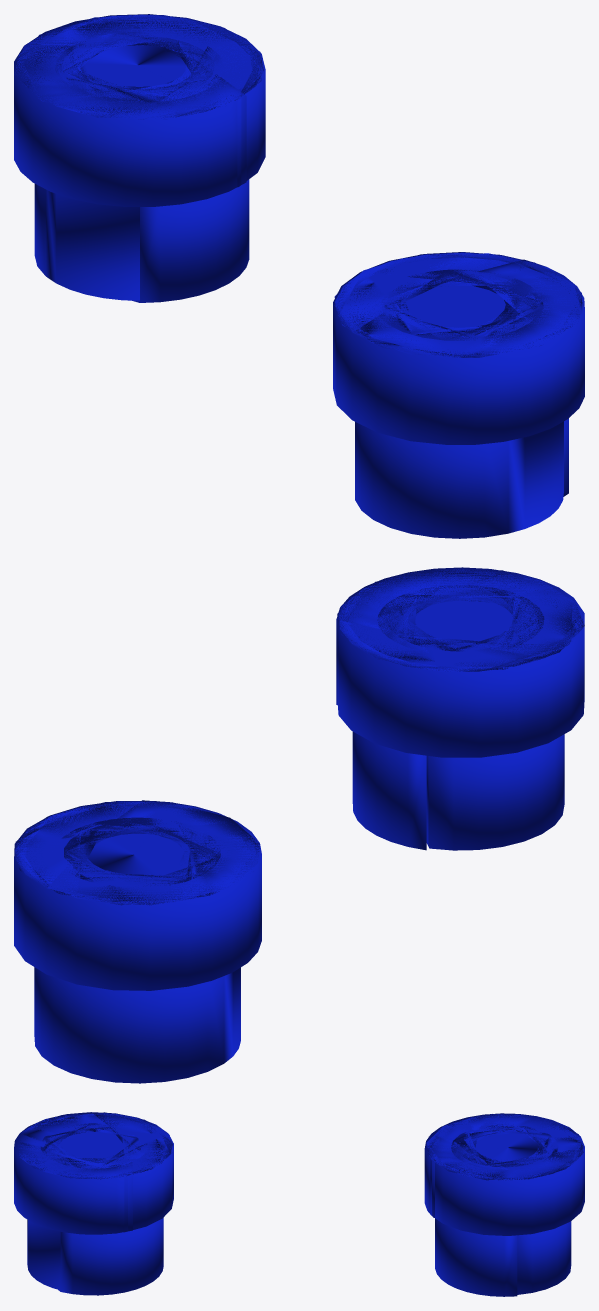
File: tuyeau_element_000074.obj
3 renders of one model, top to bottom at view 1: azimuth 30°, elevation 25°; view 2: azimuth 150°, elevation 25°; view 3: azimuth 270°, elevation 25°, orthographic. The views are drawn at different scales.
Visible parts, largest first — view 1: tuyeau1_Cube.014, tuyeau2_Cube.017; view 2: tuyeau2_Cube.017, tuyeau1_Cube.014; view 3: tuyeau1_Cube.014, tuyeau2_Cube.017.
Boxes of the visible parts, x1=… form: tuyeau1_Cube.014: x1=14, y1=14, x2=265, y2=302; tuyeau2_Cube.017: x1=333, y1=252, x2=584, y2=538; tuyeau2_Cube.017: x1=336, y1=567, x2=584, y2=850; tuyeau1_Cube.014: x1=14, y1=800, x2=261, y2=1083; tuyeau1_Cube.014: x1=424, y1=1113, x2=584, y2=1296; tuyeau2_Cube.017: x1=14, y1=1112, x2=173, y2=1295.
Bounding box in the file's own units: 3593 × 2917 × 12569.
